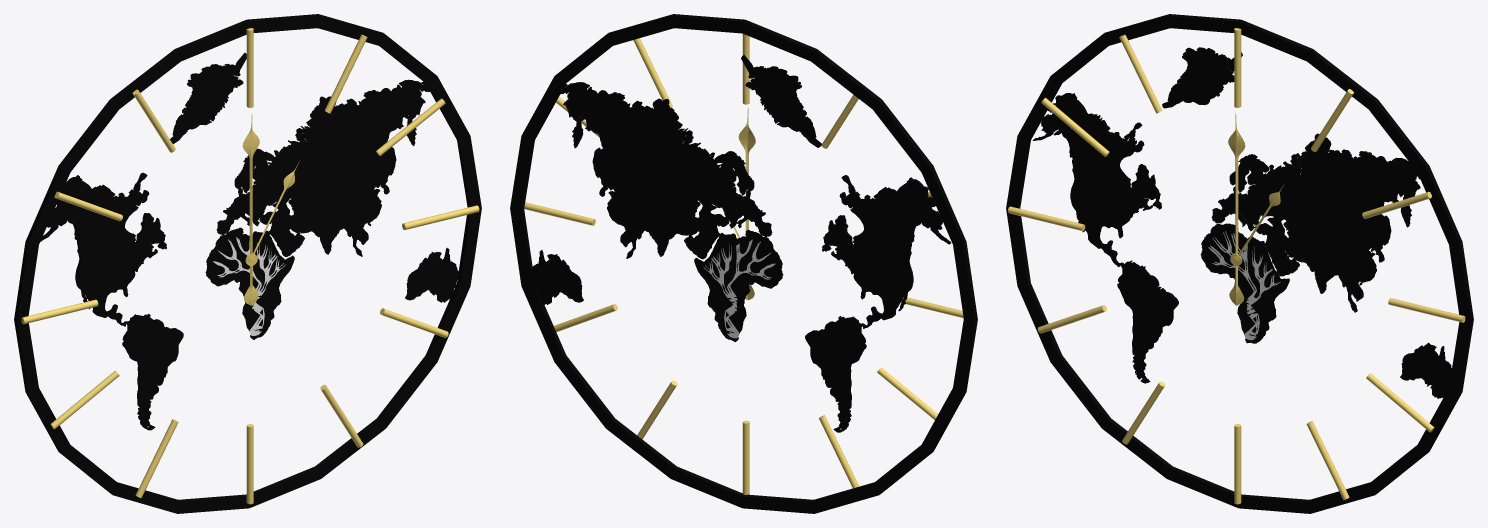
File: Clock.fbx
3 views of the same model, side by side, from view 1: azimuth 30°, elevation 25°; view 2: azimuth 150°, elevation 25°; view 3: azimuth 330°, elevation 25° (orthographic).
Visible parts, largest first — view 1: Circle_frame, scene_1__1_:polySurface52, scene_1__1_:polySurface83, Africa_Map, scene_1__1_:polySurface178, scene_1__1_:polySurface12, Clock_long_hand, scene_1__1_:pCylinder13, scene_1__1_:pCylinder7, scene_1__1_:pCylinder4, scene_1__1_:pCylinder2, scene_1__1_:pCylinder5 (+7 smaller); view 2: Circle_frame, scene_1__1_:polySurface52, scene_1__1_:polySurface83, Africa_Map, scene_1__1_:polySurface178, scene_1__1_:polySurface12, scene_1__1_:pCylinder13, scene_1__1_:pCylinder7, Clock_long_hand, scene_1__1_:pCylinder6, scene_1__1_:pCylinder14, scene_1__1_:pCylinder4; view 3: Circle_frame, scene_1__1_:polySurface52, scene_1__1_:polySurface83, Africa_Map, scene_1__1_:polySurface178, scene_1__1_:polySurface12, Clock_long_hand, scene_1__1_:pCylinder10, scene_1__1_:pCylinder11, scene_1__1_:pCylinder7, scene_1__1_:pCylinder2, scene_1__1_:pCylinder9 (+7 smaller).
Part boxes in pixels (x1=…): Circle_frame: x1=14, y1=14, x2=481, y2=513; scene_1__1_:polySurface52: x1=216, y1=79, x2=430, y2=256; scene_1__1_:polySurface83: x1=40, y1=172, x2=183, y2=430; Africa_Map: x1=205, y1=227, x2=294, y2=339; scene_1__1_:polySurface178: x1=170, y1=52, x2=246, y2=144; scene_1__1_:polySurface12: x1=405, y1=248, x2=458, y2=302; Clock_long_hand: x1=242, y1=113, x2=259, y2=305; scene_1__1_:pCylinder13: x1=135, y1=419, x2=178, y2=498; scene_1__1_:pCylinder7: x1=246, y1=424, x2=253, y2=504; scene_1__1_:pCylinder4: x1=324, y1=34, x2=367, y2=113; scene_1__1_:pCylinder2: x1=246, y1=28, x2=253, y2=107; scene_1__1_:pCylinder5: x1=376, y1=98, x2=445, y2=155; Circle_frame: x1=510, y1=14, x2=977, y2=513; scene_1__1_:polySurface52: x1=558, y1=82, x2=772, y2=259; scene_1__1_:polySurface83: x1=805, y1=175, x2=950, y2=432; Africa_Map: x1=694, y1=229, x2=783, y2=341; scene_1__1_:polySurface178: x1=741, y1=55, x2=821, y2=147; scene_1__1_:polySurface12: x1=530, y1=250, x2=583, y2=304; scene_1__1_:pCylinder13: x1=818, y1=415, x2=859, y2=488; scene_1__1_:pCylinder7: x1=742, y1=420, x2=749, y2=494; Clock_long_hand: x1=738, y1=107, x2=755, y2=300; scene_1__1_:pCylinder6: x1=524, y1=202, x2=595, y2=225; scene_1__1_:pCylinder14: x1=877, y1=367, x2=937, y2=419; scene_1__1_:pCylinder4: x1=633, y1=38, x2=672, y2=107; Circle_frame: x1=1006, y1=14, x2=1473, y2=513; scene_1__1_:polySurface52: x1=1211, y1=133, x2=1420, y2=312; scene_1__1_:polySurface83: x1=1032, y1=93, x2=1178, y2=383; Africa_Map: x1=1200, y1=223, x2=1289, y2=343; scene_1__1_:polySurface178: x1=1162, y1=47, x2=1242, y2=108; scene_1__1_:polySurface12: x1=1400, y1=342, x2=1451, y2=398; Clock_long_hand: x1=1228, y1=113, x2=1245, y2=305; scene_1__1_:pCylinder10: x1=1306, y1=421, x2=1349, y2=500; scene_1__1_:pCylinder11: x1=1119, y1=34, x2=1162, y2=113; scene_1__1_:pCylinder7: x1=1234, y1=424, x2=1241, y2=504; scene_1__1_:pCylinder2: x1=1234, y1=28, x2=1241, y2=107; scene_1__1_:pCylinder9: x1=1366, y1=373, x2=1434, y2=432.
Bounding box in the file's own units: 59.72 × 59.72 × 1.63.
